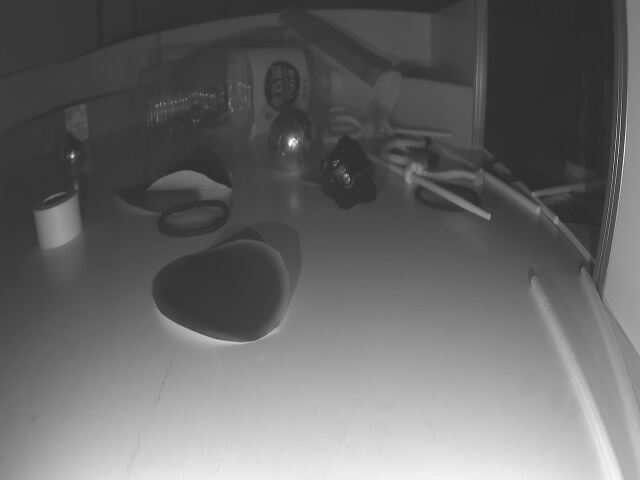Live: (269, 113, 315, 172), (57, 140, 84, 170)
Point: (0, 89, 135, 175), (390, 68, 473, 138)
